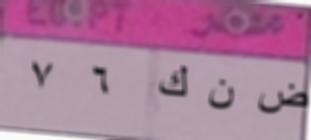6: (90, 63, 112, 102)
7: (28, 55, 55, 94)
daad: (256, 77, 308, 118)
kaaf: (156, 62, 190, 100)
noon: (205, 75, 238, 112)
